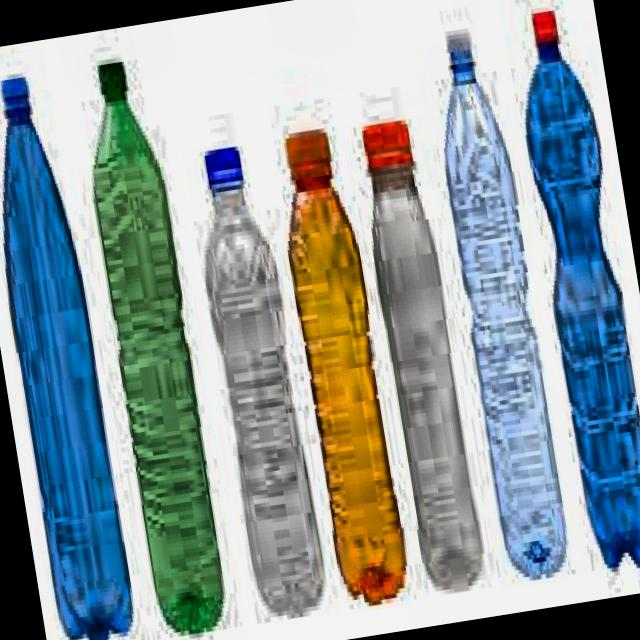plastic bottle: (0, 0, 640, 640), (94, 62, 221, 633), (3, 79, 131, 640), (447, 38, 565, 577), (527, 13, 640, 566), (286, 130, 406, 602), (363, 120, 482, 589), (205, 147, 323, 615)
